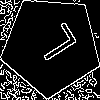L: (26, 21, 78, 69)
